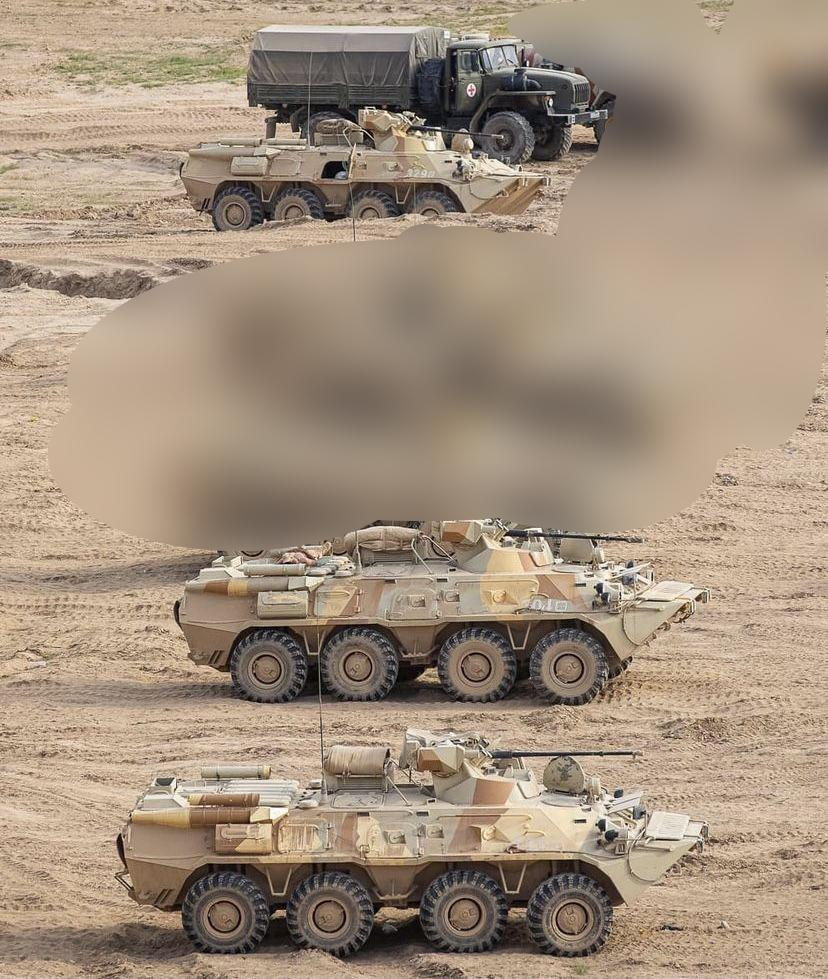armored_car: (128, 739, 705, 961), (170, 522, 704, 706), (176, 114, 544, 231)
truck: (245, 25, 616, 165)
